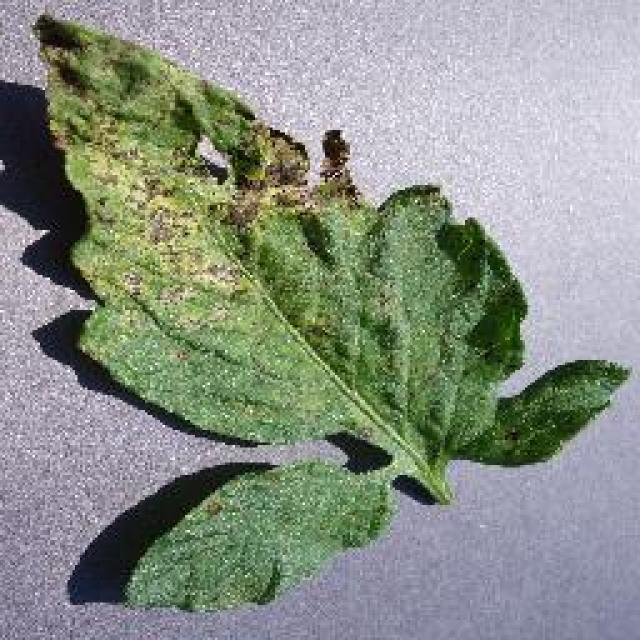Tomato target spot leaf: (30, 10, 632, 465), (124, 460, 404, 605)
